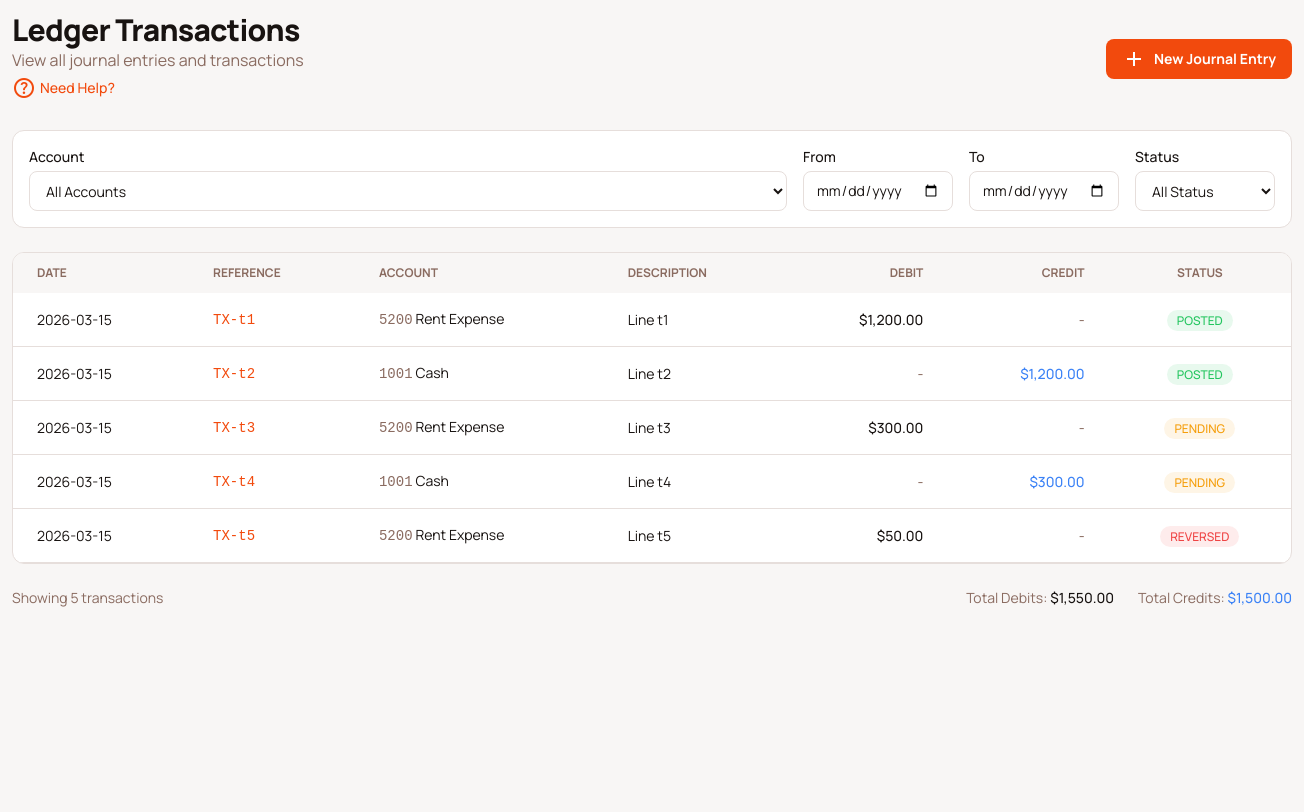
Test case: LedgerTransactionsPage filters › lists the accounts in the account filter and sends the chosen accountId
Expected: the table with test id "ledger-table" is shown, [13,253,1291,563]
Select "5200 - Rent Expense" in the dropdown with test id "account-filter". click: point(408, 191)
box: [29,171,787,211]
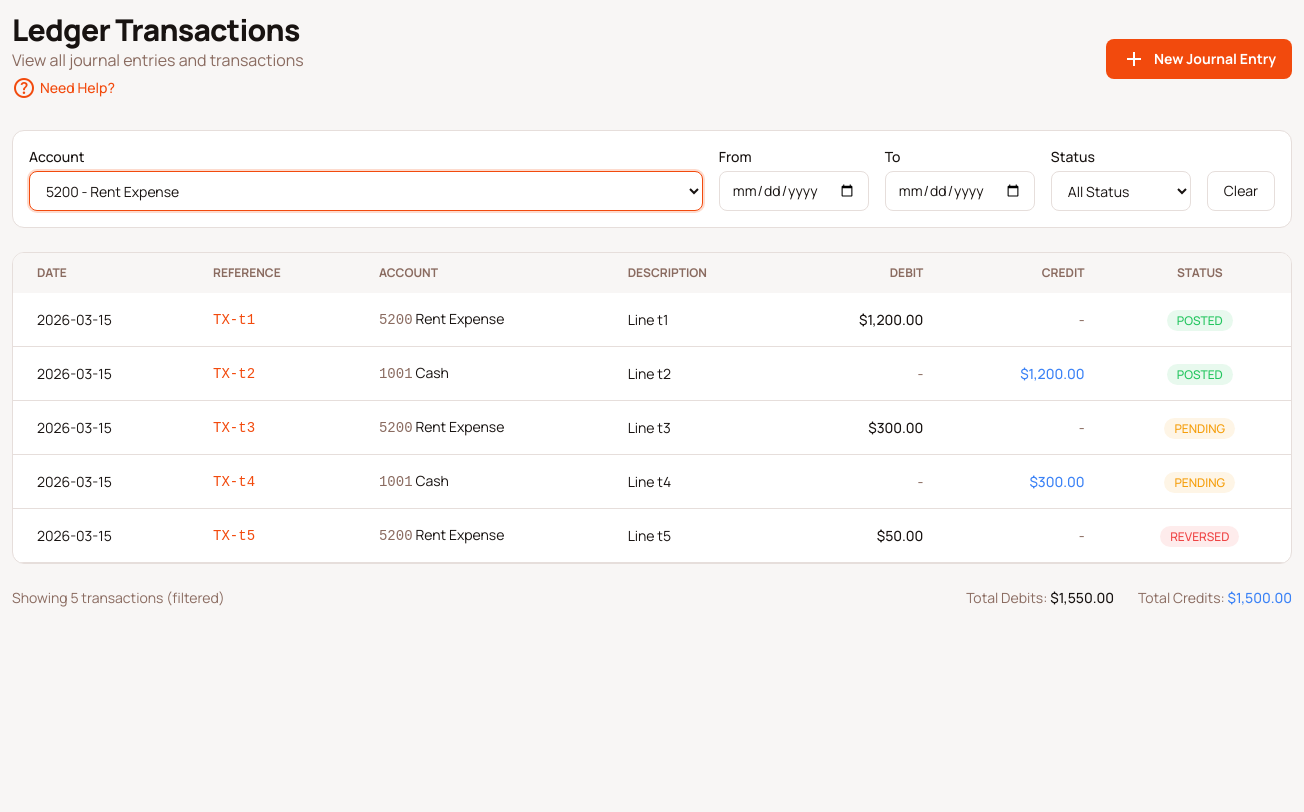
Expected: the button with test id "clear-filters-button" is shown, [1207,171,1275,211]
